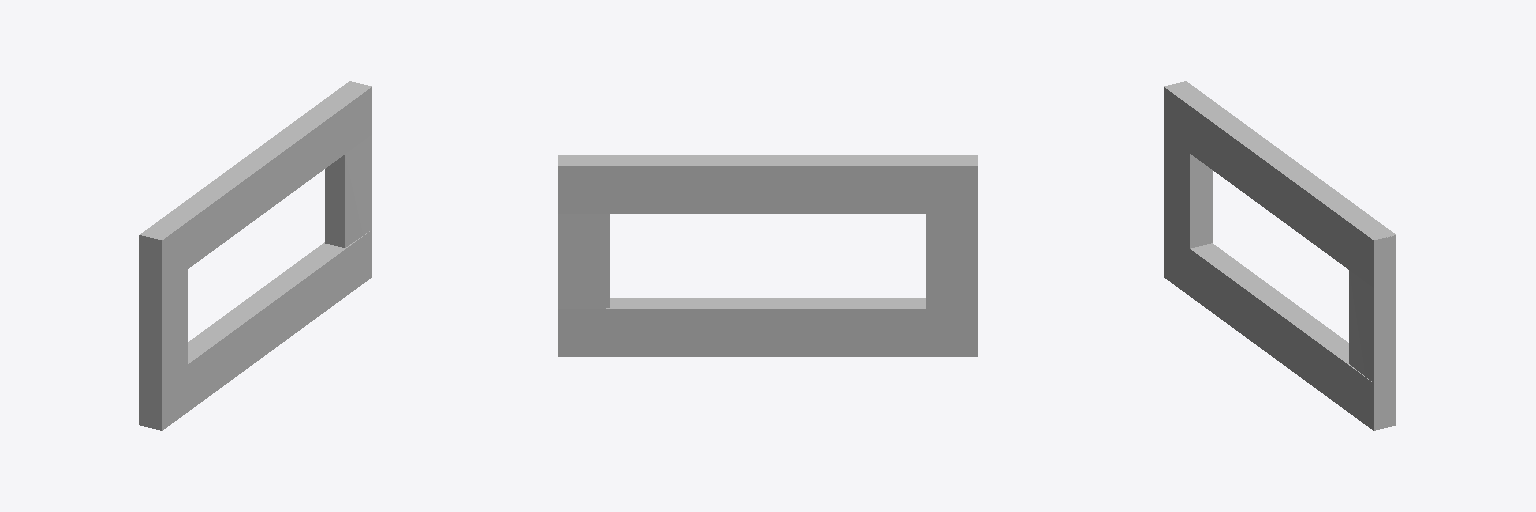
Rendered from microwave_door_open.obj.
The picture shows the model from 3 angles: view 1: azimuth 30°, elevation 25°; view 2: azimuth 150°, elevation 25°; view 3: azimuth 270°, elevation 25°; orthographic projection.
Visible parts, largest first — view 1: Cube.006_Cube.001, Cube.007_Cube.001, Cube.008_Cube.001, Door_Cube.002; view 2: Cube.006_Cube.001, Cube.007_Cube.001, Cube.008_Cube.001, Door_Cube.002; view 3: Cube.006_Cube.001, Cube.007_Cube.001, Door_Cube.002, Cube.008_Cube.001.
Part boxes in pixels (x1,y1,x2,y2): Cube.006_Cube.001: (139, 81, 371, 285); Cube.007_Cube.001: (139, 230, 371, 429); Cube.008_Cube.001: (139, 216, 187, 430); Door_Cube.002: (325, 135, 371, 247); Cube.006_Cube.001: (558, 155, 977, 213); Cube.007_Cube.001: (558, 298, 977, 356); Cube.008_Cube.001: (926, 155, 977, 356); Door_Cube.002: (558, 214, 609, 308); Cube.006_Cube.001: (1164, 81, 1395, 287); Cube.007_Cube.001: (1164, 232, 1373, 430); Door_Cube.002: (1191, 155, 1395, 430); Cube.008_Cube.001: (1164, 82, 1212, 289).
Size of the model in its own units: 1.44 by 0.8 by 0.8865.